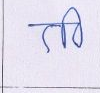i_matra: (66, 6, 87, 48)
